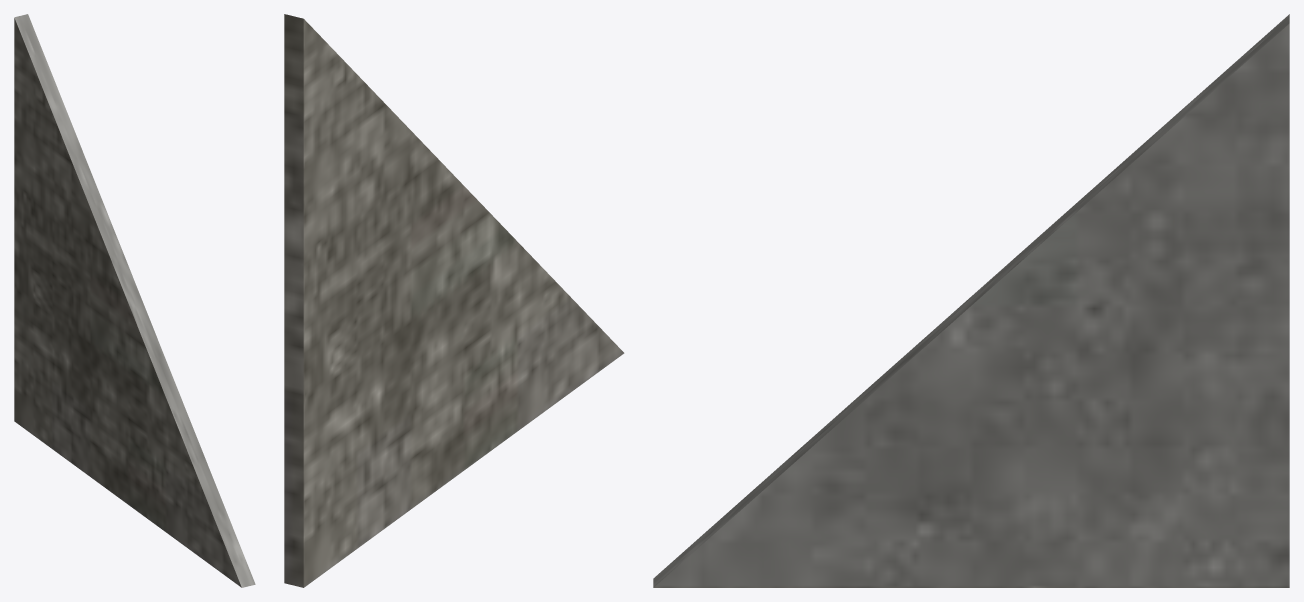
File: stone_roof_wall_left_textured.glb
The picture shows the model from 3 angles, left to right: view 1: azimuth 30°, elevation 25°; view 2: azimuth 150°, elevation 25°; view 3: azimuth 270°, elevation 25°; orthographic projection. The views are drawn at different scales.
Parts seen in each view (by area): view 1: Cube.001; view 2: Cube.001; view 3: Cube.001.
Boxes of the visible parts, <box> form: Cube.001: <box>14,14,255,587</box>; Cube.001: <box>284,14,624,587</box>; Cube.001: <box>653,14,1289,587</box>.
Size of the model in its own units: 0.0681 by 1.91 by 1.95.
1 material, 1 textured.
